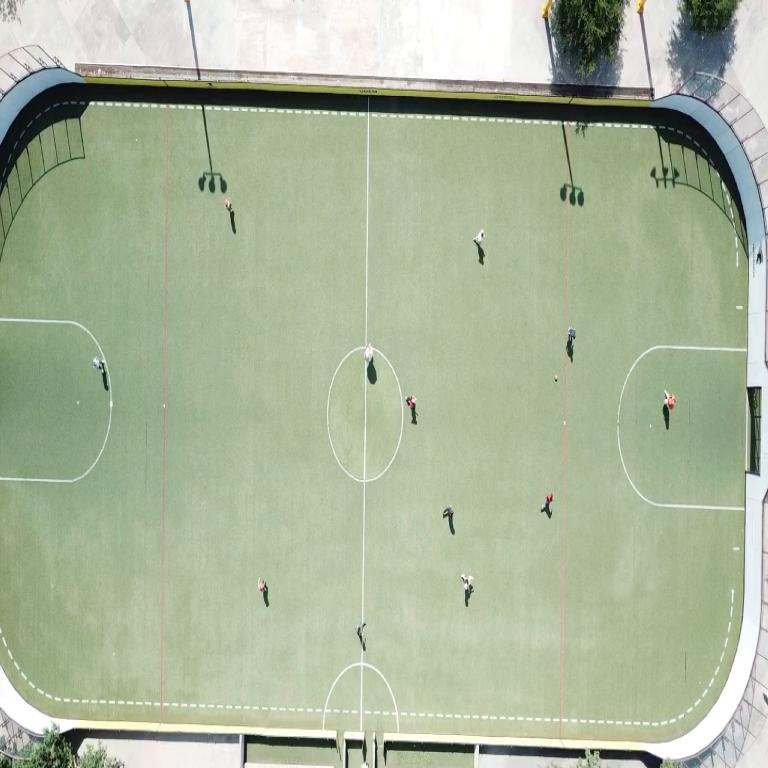AC: (617, 345, 746, 509), (0, 394, 113, 482), (0, 318, 103, 353)
B: (554, 373, 557, 381)
MC: (360, 363, 367, 626)
P: (461, 574, 473, 604), (541, 493, 553, 515), (406, 396, 415, 424), (356, 622, 365, 650), (364, 343, 374, 365), (664, 391, 675, 410), (93, 357, 103, 373), (443, 507, 453, 523), (474, 230, 484, 245), (258, 579, 265, 592), (225, 199, 232, 210), (568, 327, 575, 338)
